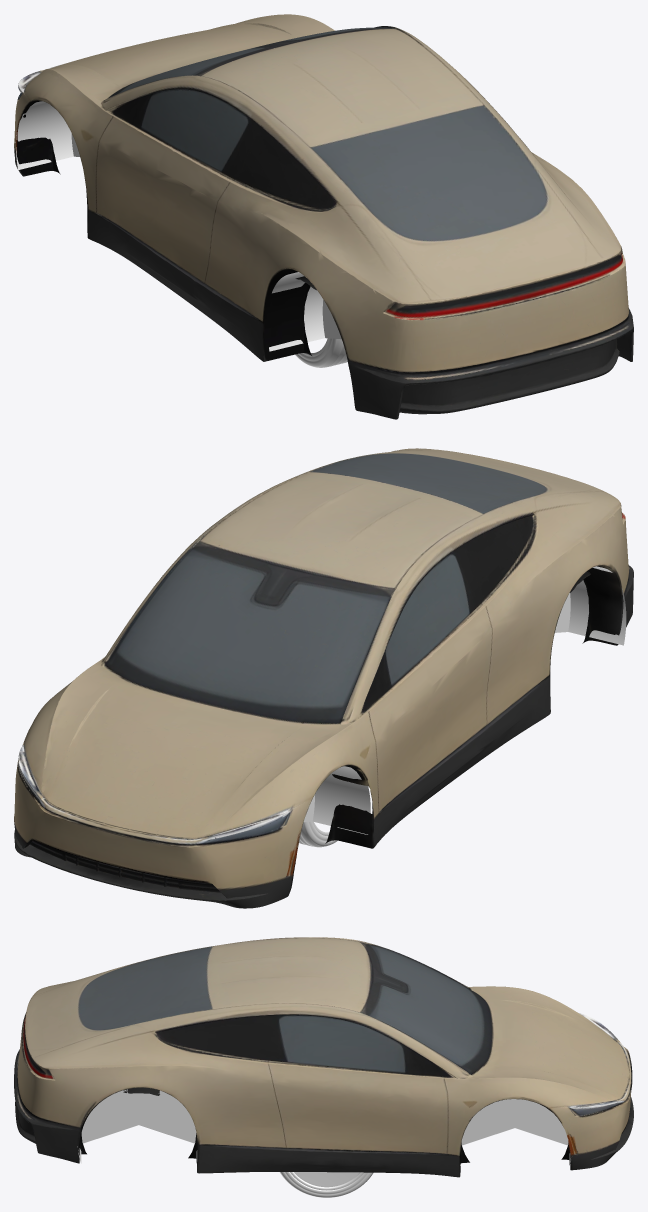
File: teleopCybercab.08358a58.glb
3 views of the same model, one above another, from view 1: azimuth 30°, elevation 25°; view 2: azimuth 150°, elevation 25°; view 3: azimuth 270°, elevation 25° (orthographic). The views are drawn at different scales.
Parts seen in each view (by area): view 1: Body, Glass, Liner, Tail, TyreR; view 2: Body, Glass, Liner, Head; view 3: Body, Glass, Liner, TyreR, CoverR.
Boxes of the visible parts, x1,y1,x2,y2 form: Body: (14, 14, 633, 419); Glass: (118, 27, 547, 241); Liner: (15, 101, 341, 351); Tail: (386, 253, 622, 319); TyreR: (295, 338, 347, 367); Body: (14, 448, 633, 908); Glass: (115, 453, 548, 718); Liner: (303, 566, 626, 834); Head: (18, 745, 292, 844); Body: (14, 937, 633, 1177); Glass: (78, 945, 481, 1072); Liner: (77, 1089, 572, 1165); TyreR: (280, 1172, 373, 1197); CoverR: (294, 1172, 359, 1187).
Bounding box in the file's own units: 1.75 × 1.79 × 4.42.
Materials: 2 (1 with a texture image).
